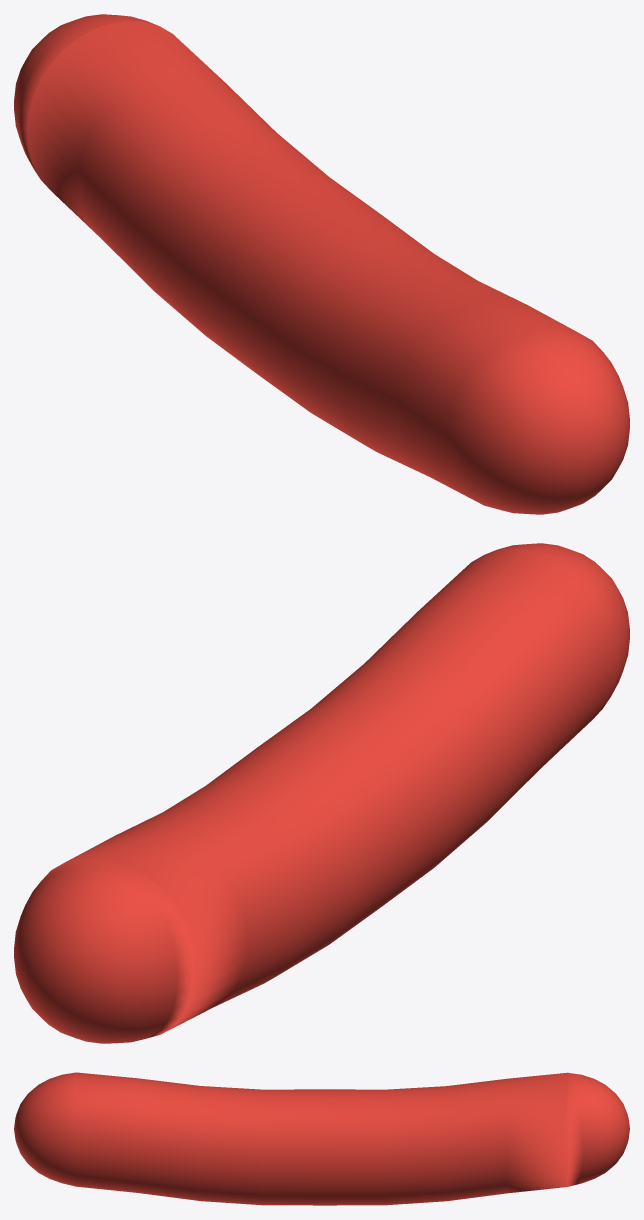
The model's file is cooked_sausage.fbx.
3 renders of one model, top to bottom at view 1: azimuth 30°, elevation 25°; view 2: azimuth 150°, elevation 25°; view 3: azimuth 270°, elevation 25°, orthographic. The views are drawn at different scales.
Visible parts, largest first — view 1: HotDog; view 2: HotDog; view 3: HotDog.
Boxes of the visible parts, left/top/right/bottom form: HotDog: left=14, top=14, right=629, bottom=514; HotDog: left=14, top=543, right=629, bottom=1043; HotDog: left=14, top=1072, right=629, bottom=1205.
Size of the model in its own units: 116 by 135 by 623.
